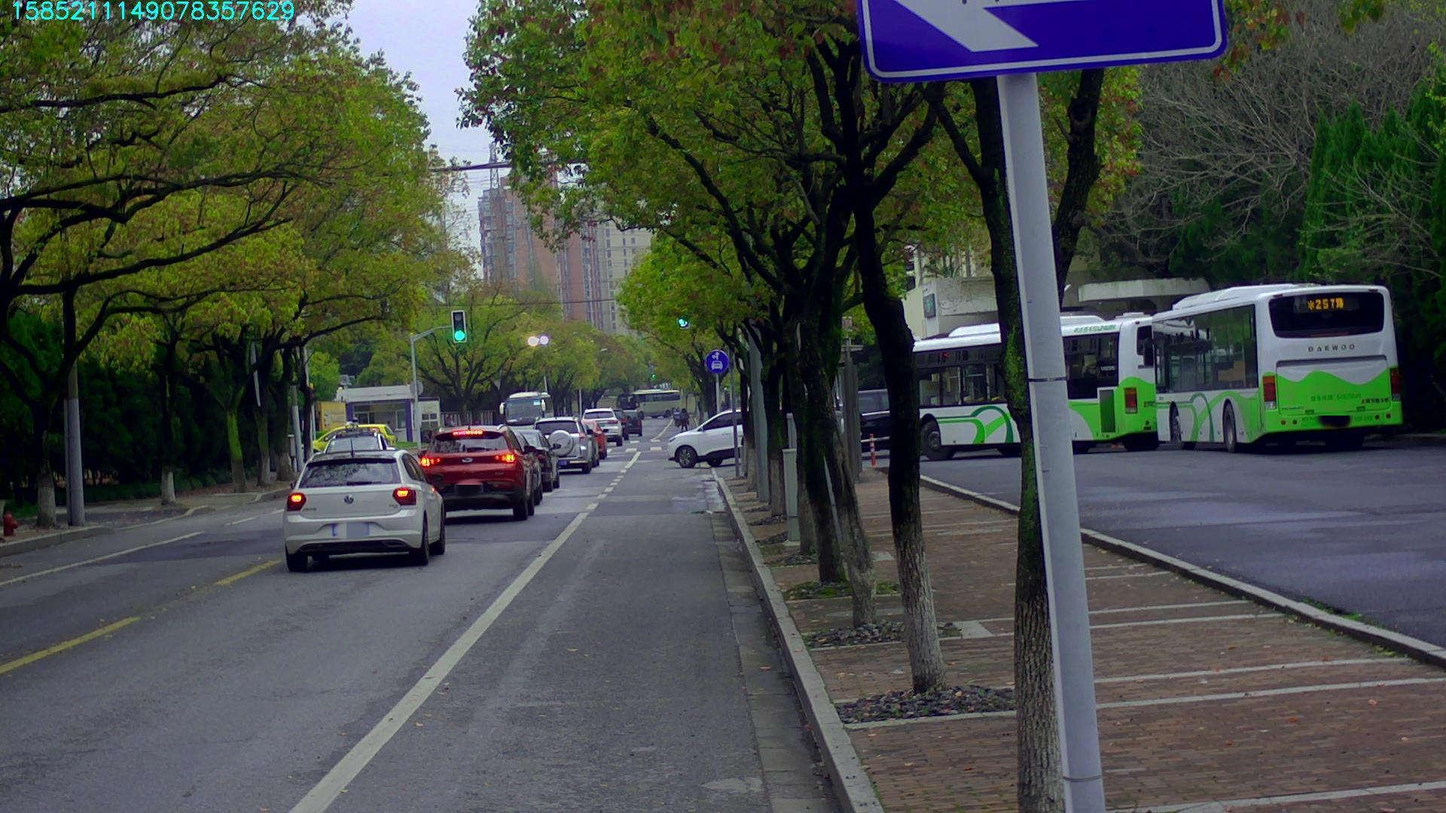green: (451, 310, 465, 341), (677, 317, 688, 328)
